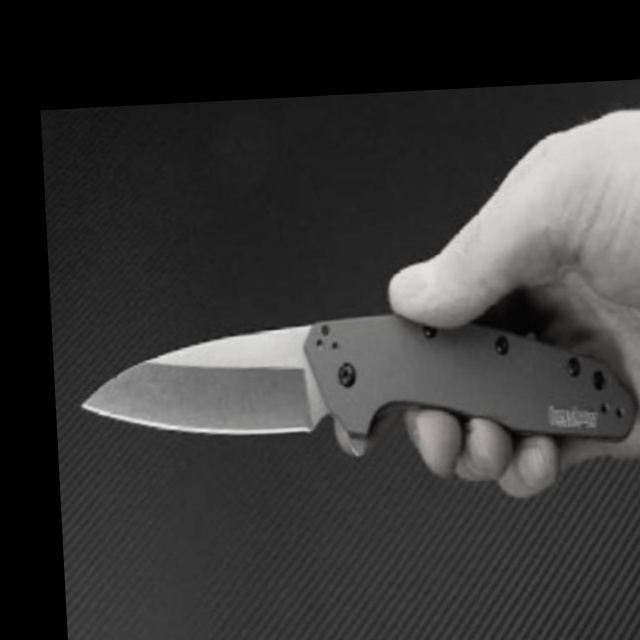Sharp-Object: (80, 305, 640, 471)
